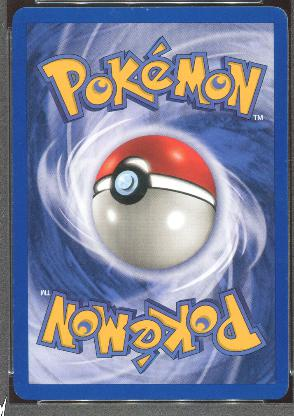Card: (8, 5, 290, 401)
Corner Wear: (12, 388, 19, 396)
Edge Wear: (284, 242, 287, 310), (123, 6, 157, 12)
